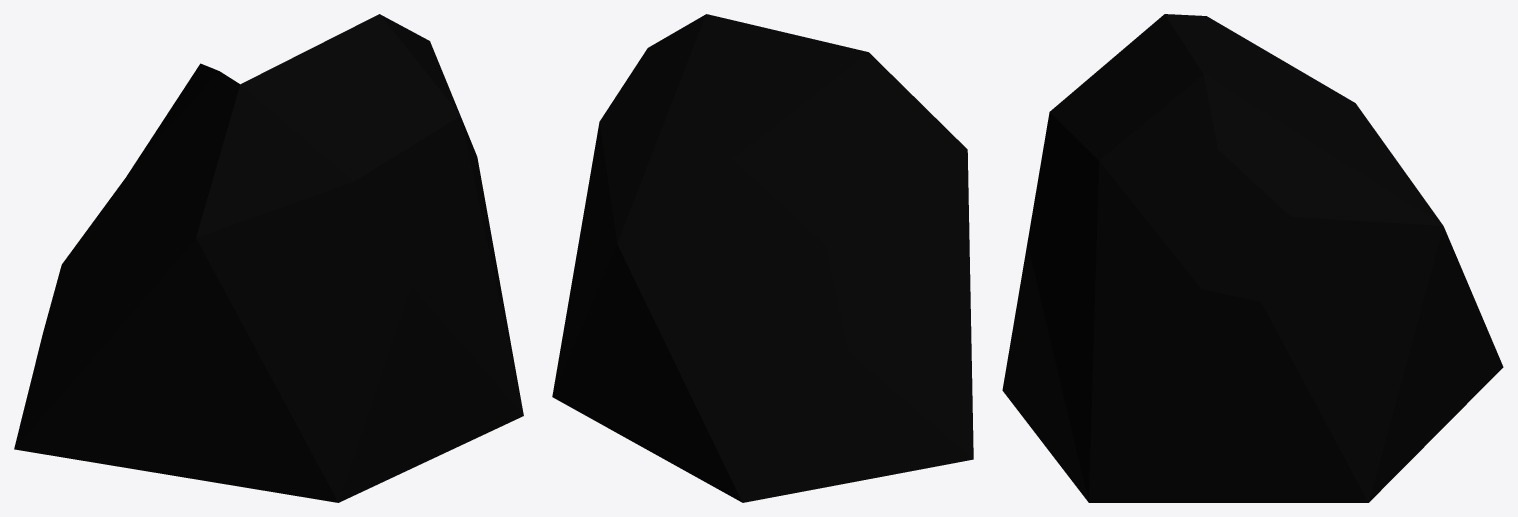
The model's file is Copper Rock 04.fbx.
The picture shows the model from 3 angles, left to right: view 1: azimuth 30°, elevation 25°; view 2: azimuth 150°, elevation 25°; view 3: azimuth 270°, elevation 25°; orthographic projection. The views are drawn at different scales.
Parts seen in each view (by area): view 1: Copper Rock 04; view 2: Copper Rock 04; view 3: Copper Rock 04.
Boxes of the visible parts, <box> form: Copper Rock 04: <box>14,14,523,502</box>; Copper Rock 04: <box>552,14,973,502</box>; Copper Rock 04: <box>1002,14,1503,502</box>.
Size of the model in its own units: 149 by 128 by 151.
